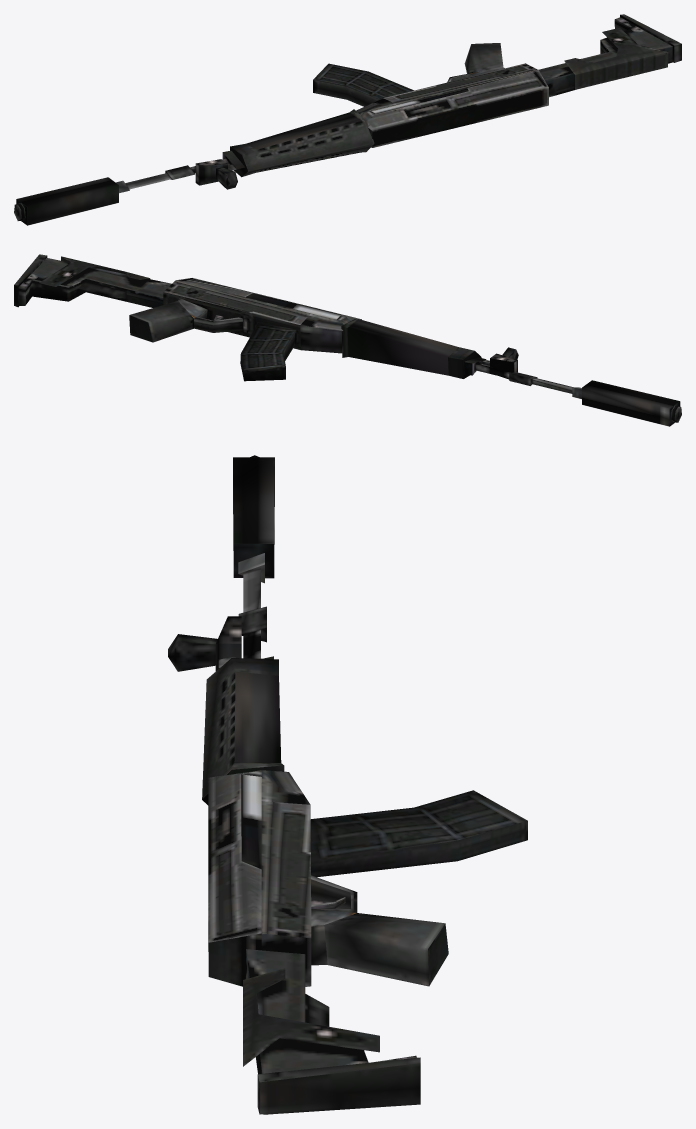
Rendered from Pickup_Qbz03Qs01.glb.
3 renders of one model, top to bottom at view 1: azimuth 30°, elevation 25°; view 2: azimuth 150°, elevation 25°; view 3: azimuth 270°, elevation 25°, orthographic. The views are drawn at different scales.
Visible parts, largest first — view 1: pk_qbz03_qs_01; view 2: pk_qbz03_qs_01; view 3: pk_qbz03_qs_01.
Part boxes in pixels (left/top/right/bottom): pk_qbz03_qs_01: left=14, top=14, right=681, bottom=225; pk_qbz03_qs_01: left=14, top=254, right=681, bottom=426; pk_qbz03_qs_01: left=168, top=455, right=527, bottom=1114.
Bounding box in the file's own units: 1.59 × 0.0771 × 0.3885.
1 material, 1 textured.
